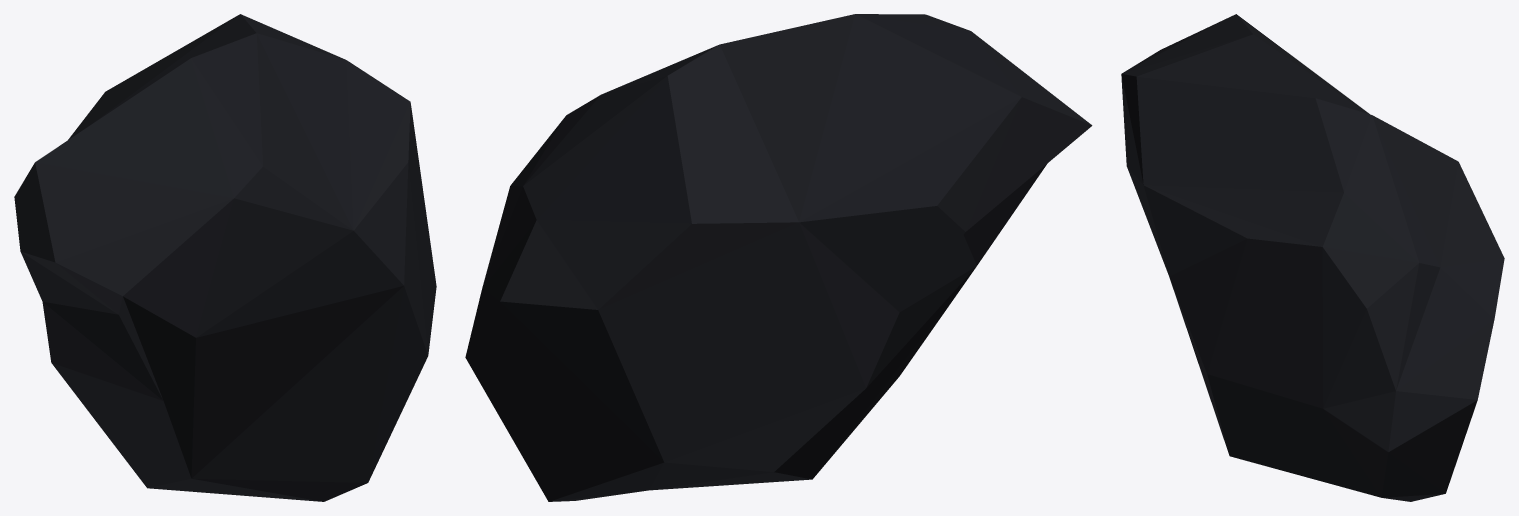
Rendered from rock_medium.fbx.
The picture shows the model from 3 angles, left to right: view 1: azimuth 30°, elevation 25°; view 2: azimuth 150°, elevation 25°; view 3: azimuth 270°, elevation 25°; orthographic projection. The views are drawn at different scales.
Visible parts, largest first — view 1: rock_medium; view 2: rock_medium; view 3: rock_medium.
Part boxes in pixels (x1,y1,x2,y2): rock_medium: [14, 14, 436, 501]; rock_medium: [465, 14, 1092, 501]; rock_medium: [1121, 14, 1504, 501].
Size of the model in its own units: 526 by 484 by 429.
